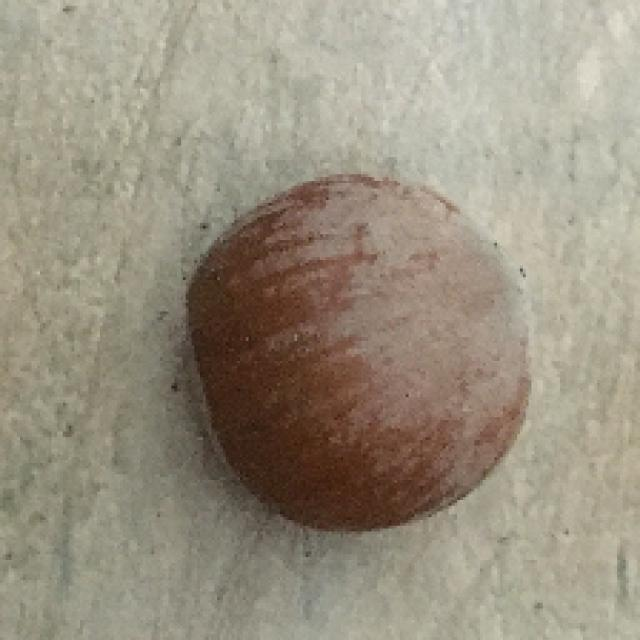qualityHazelnut: (174, 168, 545, 548)
